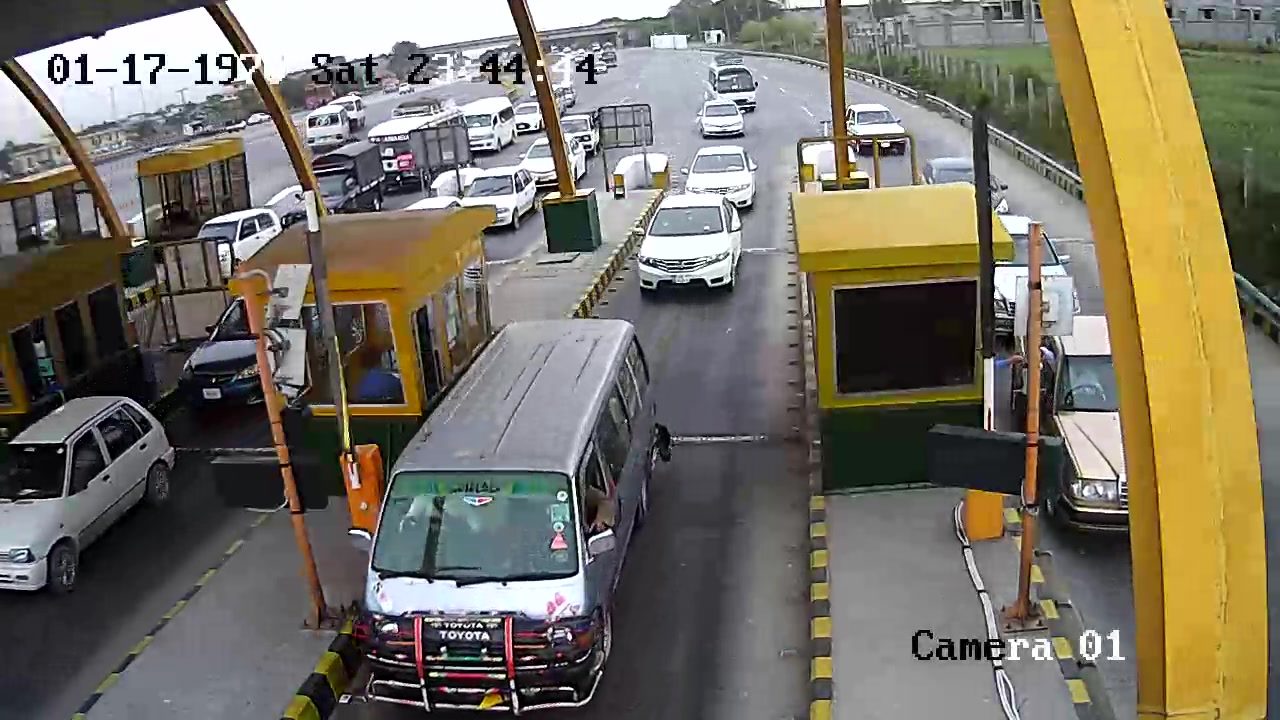F3: (350, 317, 686, 708)
